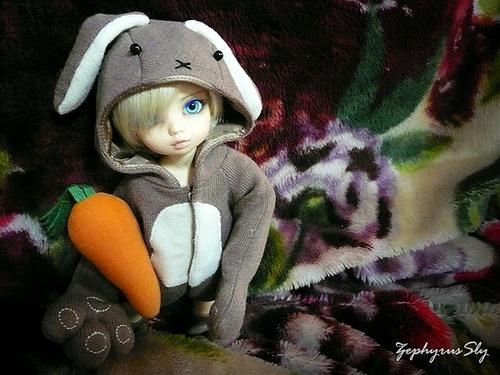carrot: (38, 184, 162, 318)
